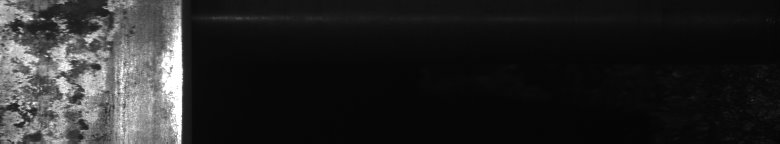kb: (4, 4, 172, 136)
